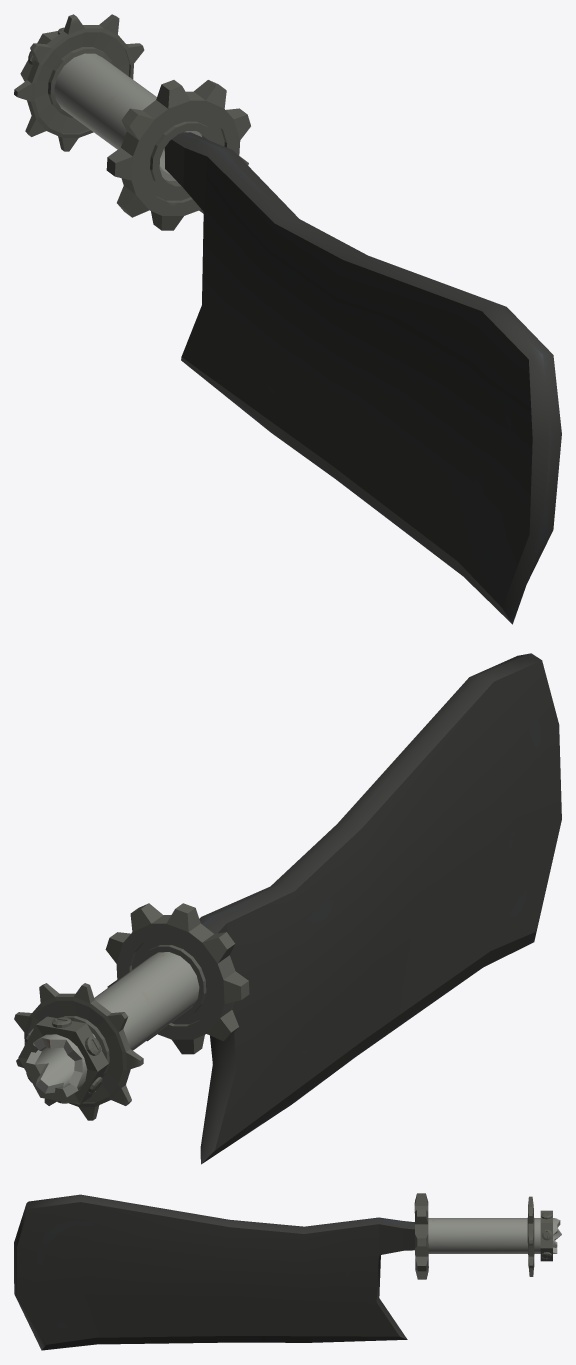
File: CleaverRusty.fbx
The picture shows the model from 3 angles, top to bottom: view 1: azimuth 30°, elevation 25°; view 2: azimuth 150°, elevation 25°; view 3: azimuth 270°, elevation 25°; orthographic projection. The views are drawn at different scales.
Parts seen in each view (by area): view 1: CleaverRusty; view 2: CleaverRusty; view 3: CleaverRusty.
Boxes of the visible parts, x1,y1,x2,y2 form: CleaverRusty: (14, 14, 561, 624); CleaverRusty: (14, 653, 561, 1164); CleaverRusty: (14, 1193, 561, 1350).
Size of the model in its own units: 13.54 by 27.53 by 85.71.
Materials: 1 (1 with a texture image).
